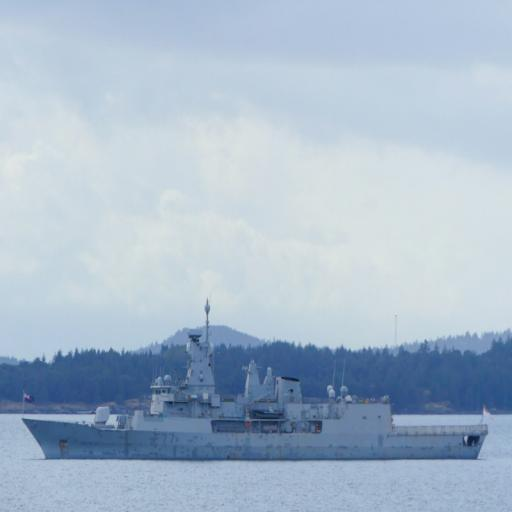Fragata: (22, 287, 492, 467)
